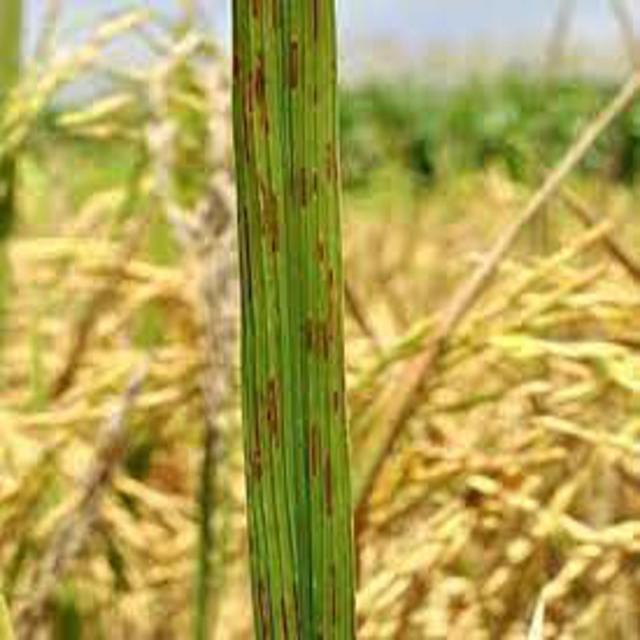Brown spot: (234, 0, 353, 640)
